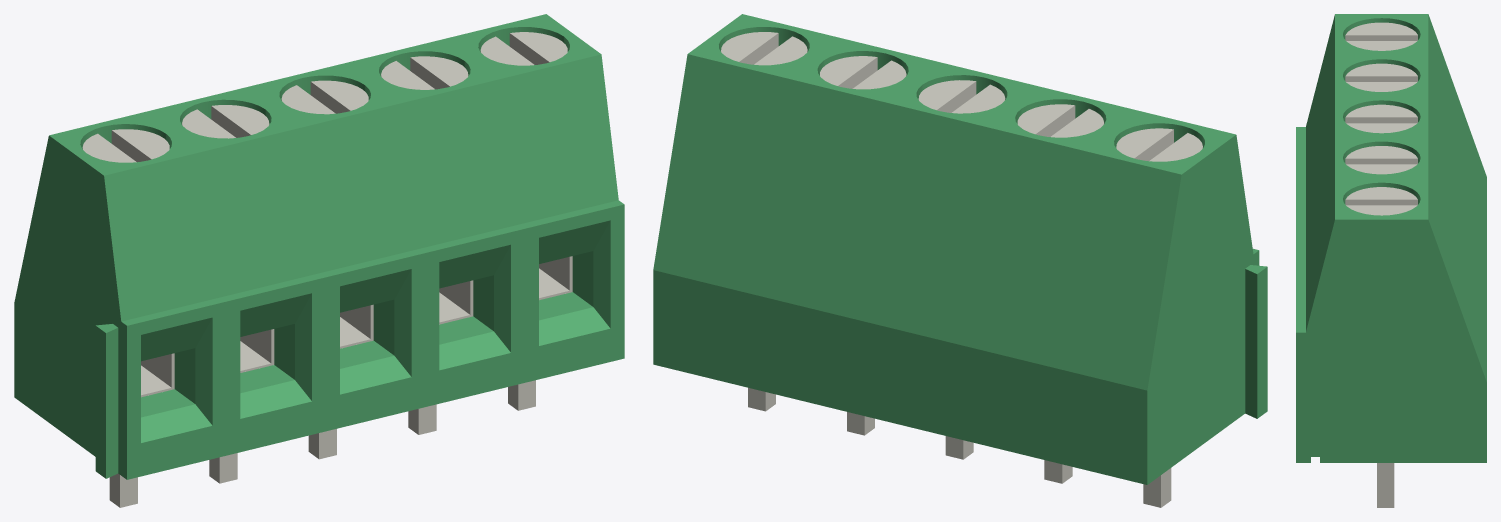
The model's file is kc-terminalblock_phoenix_mkds-1_5-5_1x05_p5.00mm_horizontal.glb.
3 views of the same model, side by side, from view 1: azimuth 30°, elevation 25°; view 2: azimuth 150°, elevation 25°; view 3: azimuth 270°, elevation 25° (orthographic). The views are drawn at different scales.
Parts seen in each view (by area): view 1: 0.08333333333333333_0.4166666666666667_0.16666666666666666_0, 0.6666666666666666_0.6666666666666666_0.5833333333333334_0.8; view 2: 0.08333333333333333_0.4166666666666667_0.16666666666666666_0, 0.6666666666666666_0.6666666666666666_0.5833333333333334_0.8; view 3: 0.08333333333333333_0.4166666666666667_0.16666666666666666_0, 0.6666666666666666_0.6666666666666666_0.5833333333333334_0.8.
Part boxes in pixels (x1,y1,x2,y2): 0.08333333333333333_0.4166666666666667_0.16666666666666666_0: (14,14,624,479); 0.6666666666666666_0.6666666666666666_0.5833333333333334_0.8: (82,32,572,507); 0.08333333333333333_0.4166666666666667_0.16666666666666666_0: (653,14,1267,484); 0.6666666666666666_0.6666666666666666_0.5833333333333334_0.8: (721,32,1202,507); 0.08333333333333333_0.4166666666666667_0.16666666666666666_0: (1296,14,1486,462); 0.6666666666666666_0.6666666666666666_0.5833333333333334_0.8: (1345,22,1417,507).
Bounding box in the file's own units: 2.57 × 1.73 × 0.9801.
